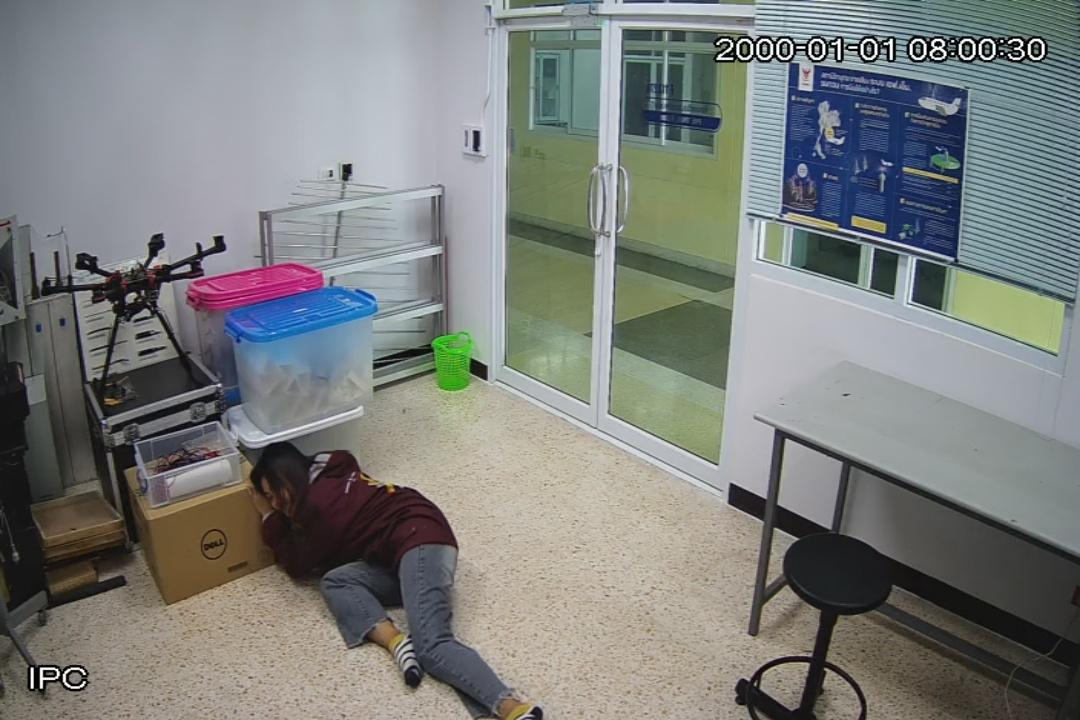fall: (234, 442, 552, 720)
